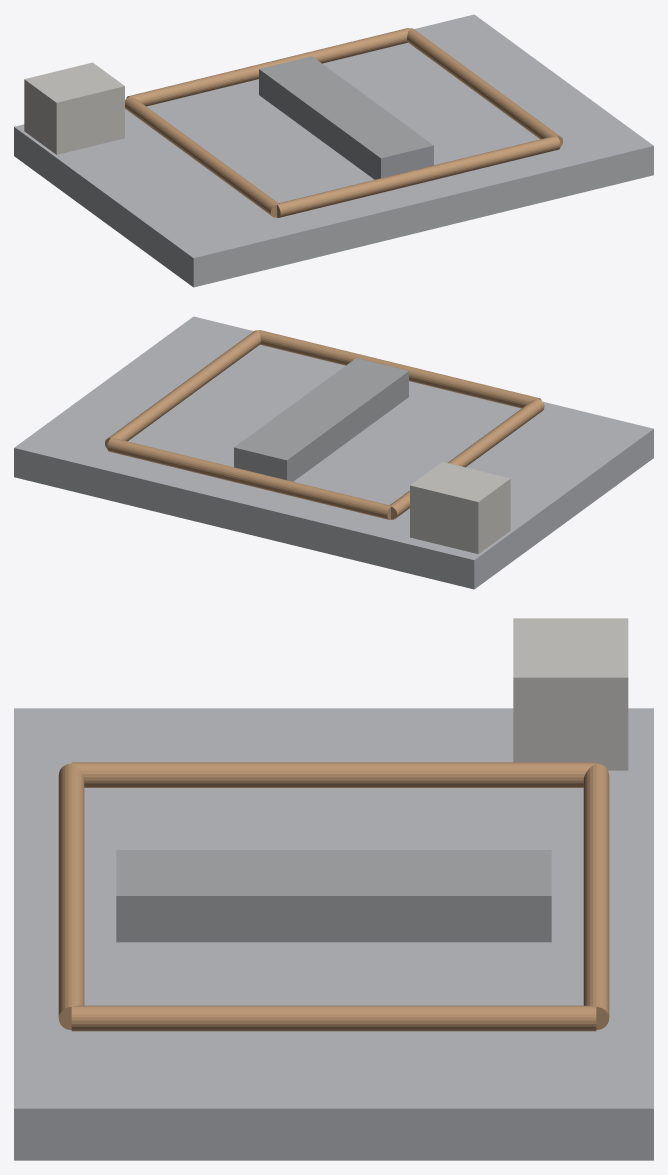
3 renders of one model, top to bottom at view 1: azimuth 30°, elevation 25°; view 2: azimuth 150°, elevation 25°; view 3: azimuth 270°, elevation 25°, orthographic. The views are drawn at different scales.
Visible parts, largest first — view 1: assembly_base, coolant_loop, cold_plate, module_01; view 2: assembly_base, coolant_loop, cold_plate, module_01; view 3: assembly_base, coolant_loop, cold_plate, module_01.
Part boxes in pixels (<box>): assembly_base: <box>14,14,653,287</box>; coolant_loop: <box>125,28,562,217</box>; cold_plate: <box>259,56,433,179</box>; module_01: <box>24,62,124,154</box>; assembly_base: <box>14,316,653,589</box>; coolant_loop: <box>105,330,544,519</box>; cold_plate: <box>234,358,408,481</box>; module_01: <box>410,462,510,553</box>; assembly_base: <box>14,708,653,1160</box>; coolant_loop: <box>58,762,609,1031</box>; cold_plate: <box>116,850,551,942</box>; module_01: <box>513,618,628,770</box>.
Size of the model in its own units: 7.4 by 1.25 by 5.
